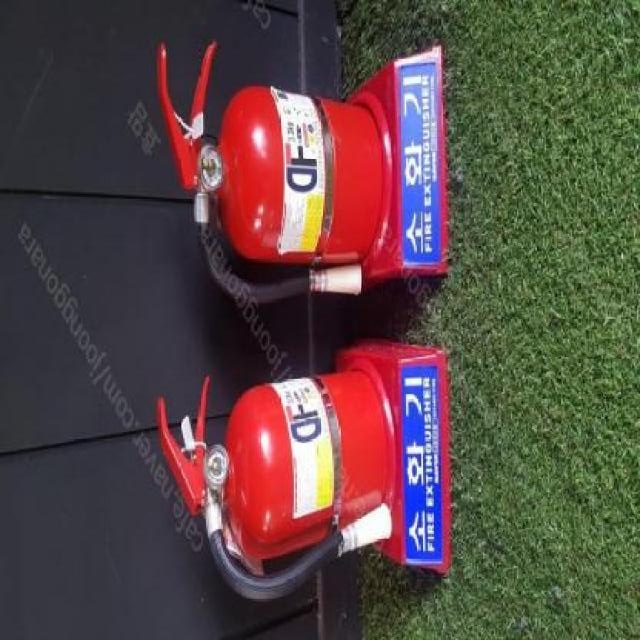fire extinguisher: (158, 40, 384, 306), (156, 370, 392, 601)
